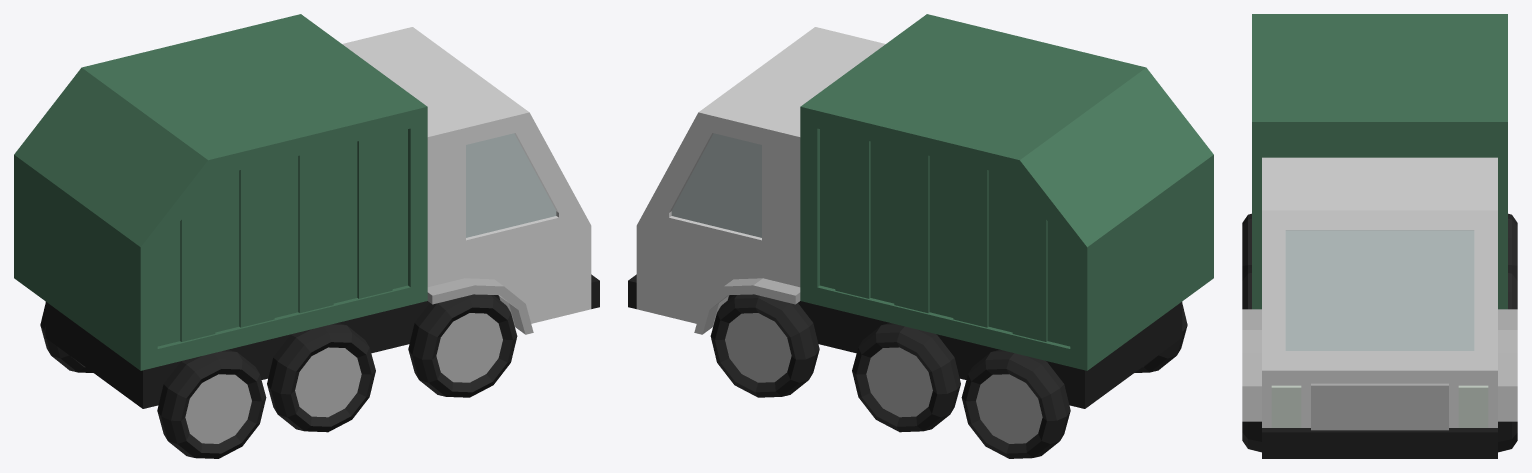
File: truck3.fbx
3 views of the same model, side by side, from view 1: azimuth 30°, elevation 25°; view 2: azimuth 150°, elevation 25°; view 3: azimuth 270°, elevation 25° (orthographic).
Parts seen in each view (by area): view 1: Cube, Torus.005, Torus.003, Torus.004, Torus.000; view 2: Cube, Torus.001, Torus.000, Torus.002, Torus.005; view 3: Cube, Torus.002, Torus.004, Torus.000, Torus.005, Torus.001, Torus.003.
Boxes of the visible parts, left/top/right/bottom form: Cube: left=14, top=14, right=599, bottom=408; Torus.005: left=157, top=350, right=266, bottom=458; Torus.003: left=267, top=323, right=375, bottom=432; Torus.004: left=408, top=294, right=517, bottom=397; Torus.000: left=40, top=304, right=92, bottom=372; Cube: left=628, top=14, right=1213, bottom=408; Torus.001: left=852, top=323, right=960, bottom=432; Torus.000: left=961, top=350, right=1070, bottom=458; Torus.002: left=710, top=294, right=819, bottom=397; Torus.005: left=1135, top=304, right=1187, bottom=372; Cube: left=1242, top=14, right=1517, bottom=458; Torus.002: left=1498, top=421, right=1517, bottom=452; Torus.004: left=1242, top=421, right=1261, bottom=452; Torus.000: left=1508, top=213, right=1517, bottom=276; Torus.005: left=1242, top=213, right=1251, bottom=276; Torus.001: left=1508, top=268, right=1517, bottom=309; Torus.003: left=1242, top=268, right=1251, bottom=309.
Size of the model in its own units: 550 by 343 by 280.
